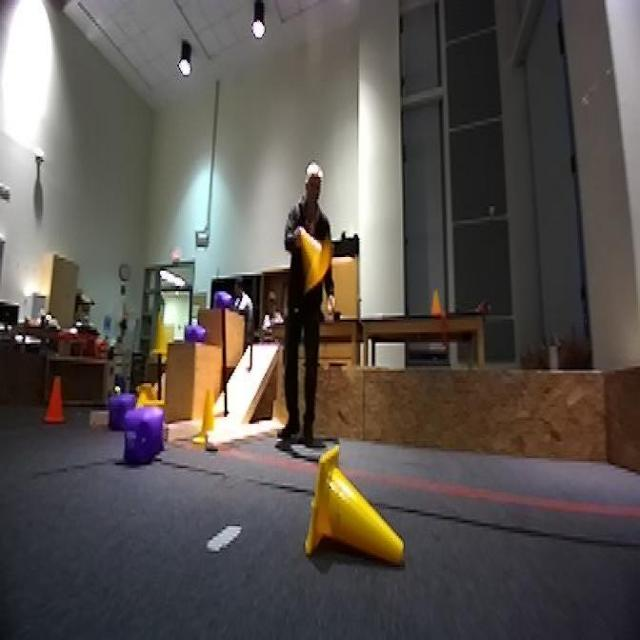frc_cone: (306, 444, 408, 558), (297, 224, 328, 294), (192, 383, 218, 444), (148, 308, 166, 363), (134, 378, 166, 407)
frc_cube: (126, 411, 164, 466), (102, 390, 137, 432), (181, 318, 210, 341), (212, 291, 232, 312)
